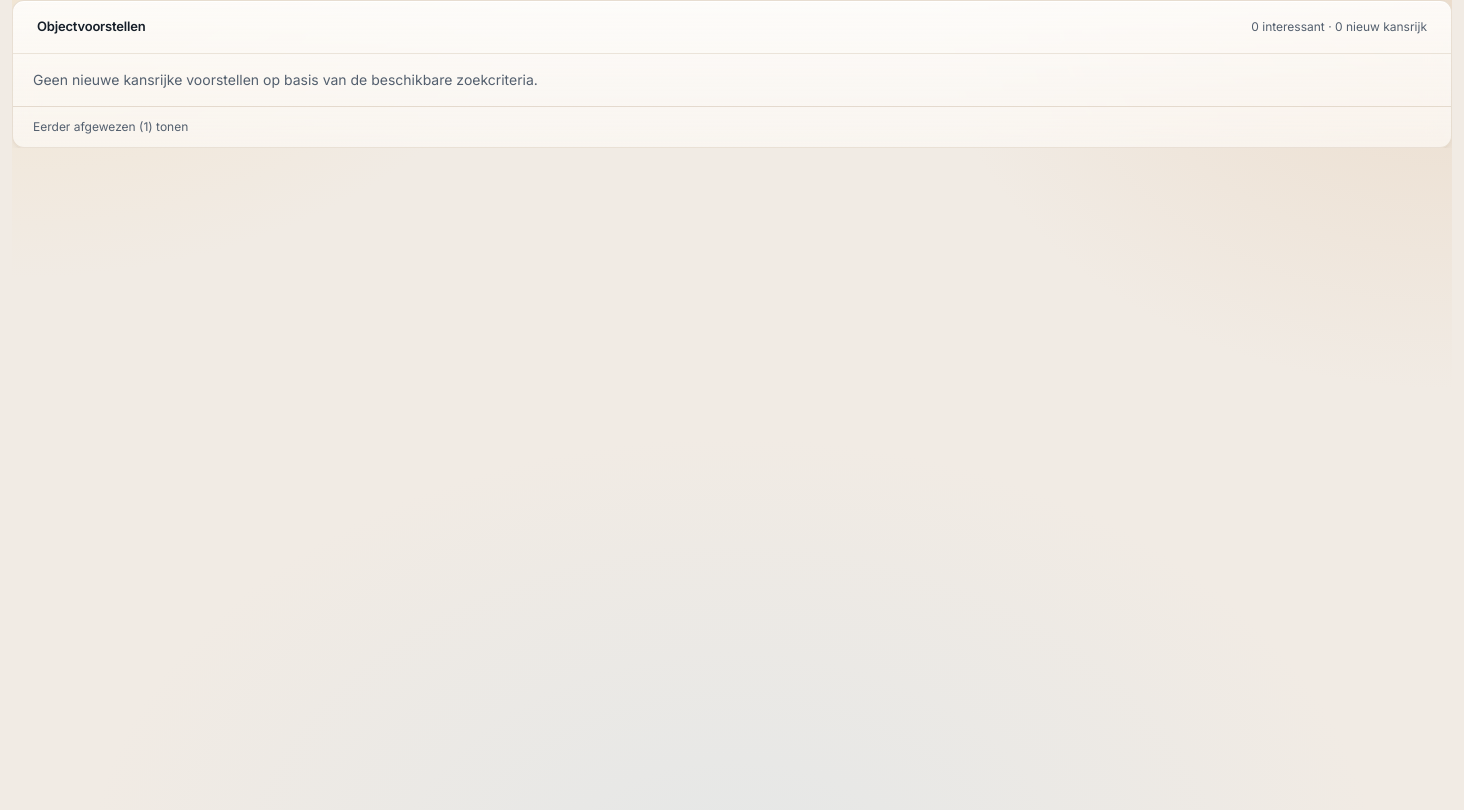
Test case: Relaties — objectvoorstellen in productie › behoudt expliciete Niet passend-besluiten in de historie en laat herstel toe
The width and height of the screenshot is (1464, 810).
Earlier steps of the test are not shown.
Later steps or results of the test are not shown.
expect the link "Testpand 1" is not shown: met
Click the button "Eerder afgewezen (1) tonen": (88, 126) [13,106,1451,146]
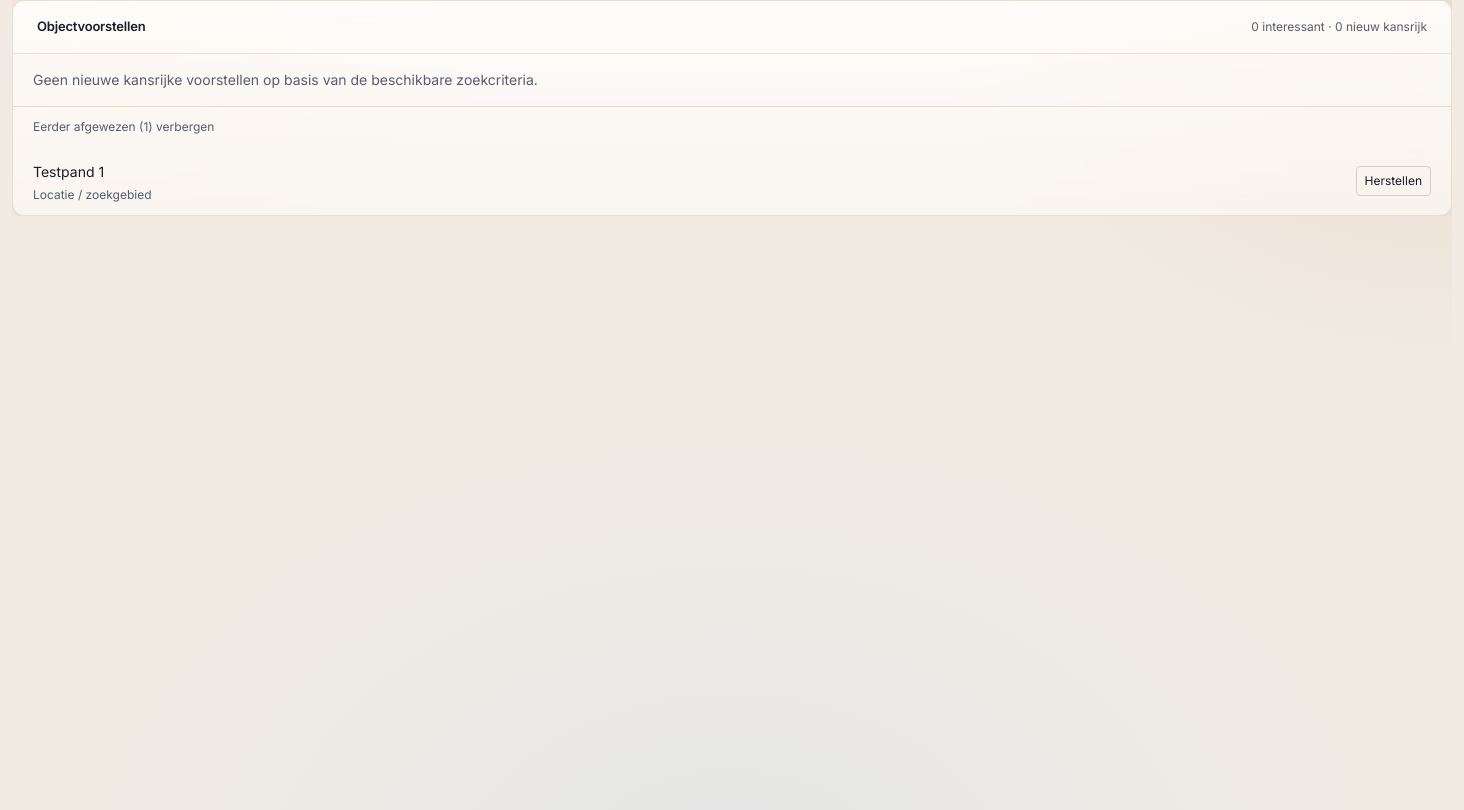
expect the link "Testpand 1" is shown: met, box [33,162,104,180]
